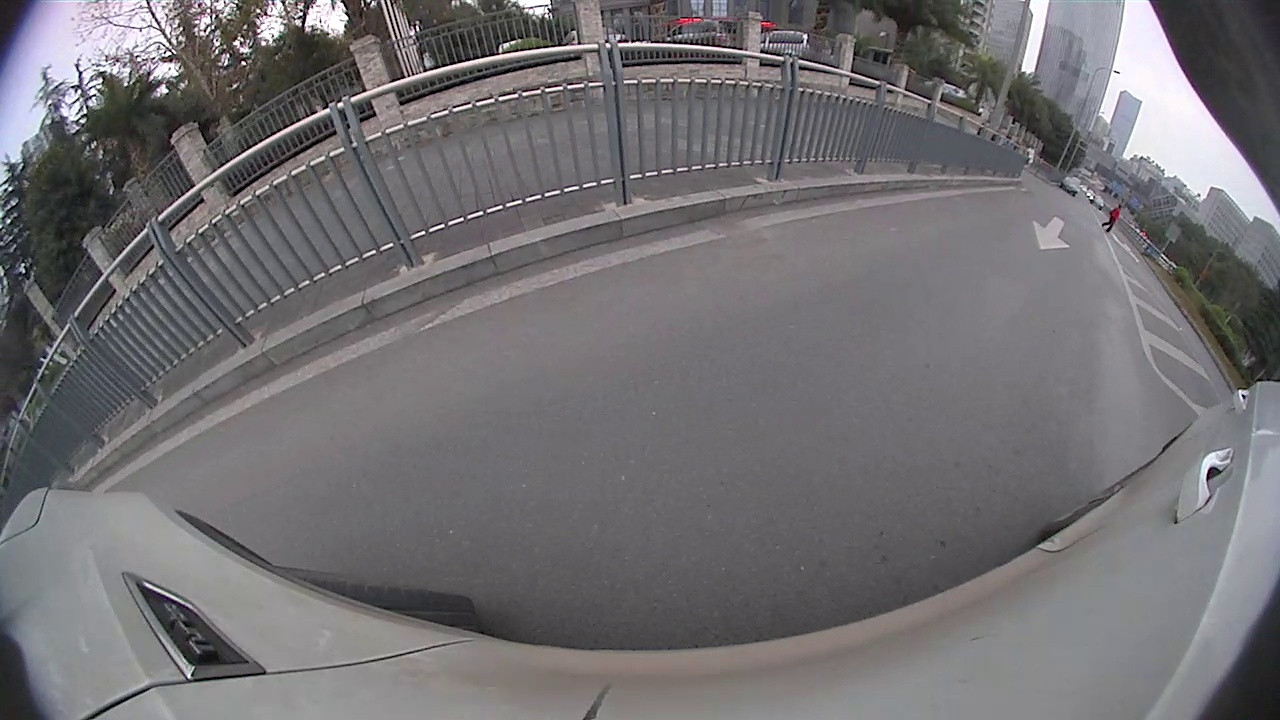car: (1132, 294, 1168, 337), (290, 115, 323, 133)
